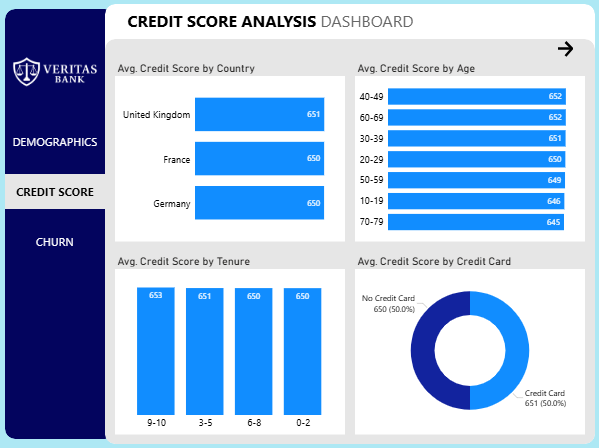

The page's visual inventory and layout, read from the dashboard file:
{"tool":"powerbi","page":{"name":"2","canvas":[1200,900],"ordinal":1},"visuals":[{"type":"shape","box":[10,20,220,860],"z":0},{"type":"shape","box":[210,10,980,880],"z":1000},{"type":"shape","box":[210,80,980,810],"z":2000},{"type":"textbox","box":[250,20,650,50],"z":3000},{"type":"actionButton","box":[10,250,200,70],"z":4000},{"type":"actionButton","box":[10,350,200,70],"z":5000},{"type":"actionButton","box":[10,450,200,70],"z":6000},{"type":"barChart","fields":{"Category":["CustomerInfo csv.Country"],"Y":["Avg(AccountInfo.CreditScore)"]},"box":[230,120,460,365],"z":7000},{"type":"barChart","fields":{"Y":["Avg(AccountInfo.CreditScore)"],"Category":["CustomerInfo.Age Group"]},"box":[710,120,460,365],"z":8000},{"type":"donutChart","fields":{"Category":["AccountInfo.Credit Card"],"Y":["Avg(AccountInfo.CreditScore)"]},"box":[710,505,460,365],"z":9000},{"type":"columnChart","fields":{"Category":["AccountInfo.Tenure Group"],"Y":["Avg(AccountInfo.CreditScore)"]},"box":[230,505,460,365],"z":10000},{"type":"actionButton","box":[1110,80,50,40],"z":11000},{"type":"image","box":[20,70,180,150],"z":12000}]}

Visuals, with their boxes in screenshot pixels (x1, y1, x2, y2), scaled from the page's 1200x900 canvas onto the 599x448 screenshot:
shape: bbox=[5, 10, 115, 438]
shape: bbox=[105, 5, 594, 443]
shape: bbox=[105, 40, 594, 443]
textbox: bbox=[125, 10, 449, 35]
actionButton: bbox=[5, 124, 105, 159]
actionButton: bbox=[5, 174, 105, 209]
actionButton: bbox=[5, 224, 105, 259]
barChart - CustomerInfo csv.Country x Avg(AccountInfo.CreditScore): bbox=[115, 60, 344, 241]
barChart - Avg(AccountInfo.CreditScore) x CustomerInfo.Age Group: bbox=[354, 60, 584, 241]
donutChart - AccountInfo.Credit Card x Avg(AccountInfo.CreditScore): bbox=[354, 251, 584, 433]
columnChart - AccountInfo.Tenure Group x Avg(AccountInfo.CreditScore): bbox=[115, 251, 344, 433]
actionButton: bbox=[554, 40, 579, 60]
image: bbox=[10, 35, 100, 110]
